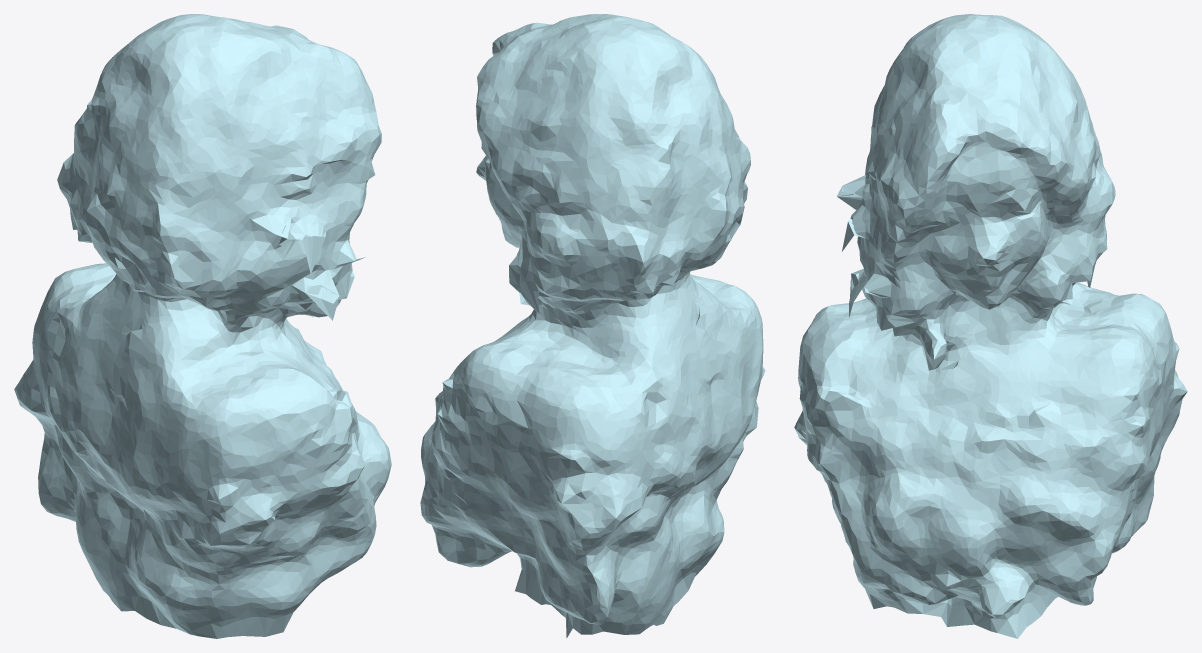
The model's file is girl1-canny.glb.
3 renders of one model, left to right at view 1: azimuth 30°, elevation 25°; view 2: azimuth 150°, elevation 25°; view 3: azimuth 270°, elevation 25°, orthographic. The views are drawn at different scales.
Parts seen in each view (by area): view 1: extracted_mesh; view 2: extracted_mesh; view 3: extracted_mesh.
Boxes of the visible parts, bbox=[...] form: extracted_mesh: bbox=[14, 14, 391, 638]; extracted_mesh: bbox=[420, 14, 765, 638]; extracted_mesh: bbox=[794, 14, 1187, 638].
Bounding box in the file's own units: 0.5804 × 1.18 × 0.7301.
1 material, 1 textured.
